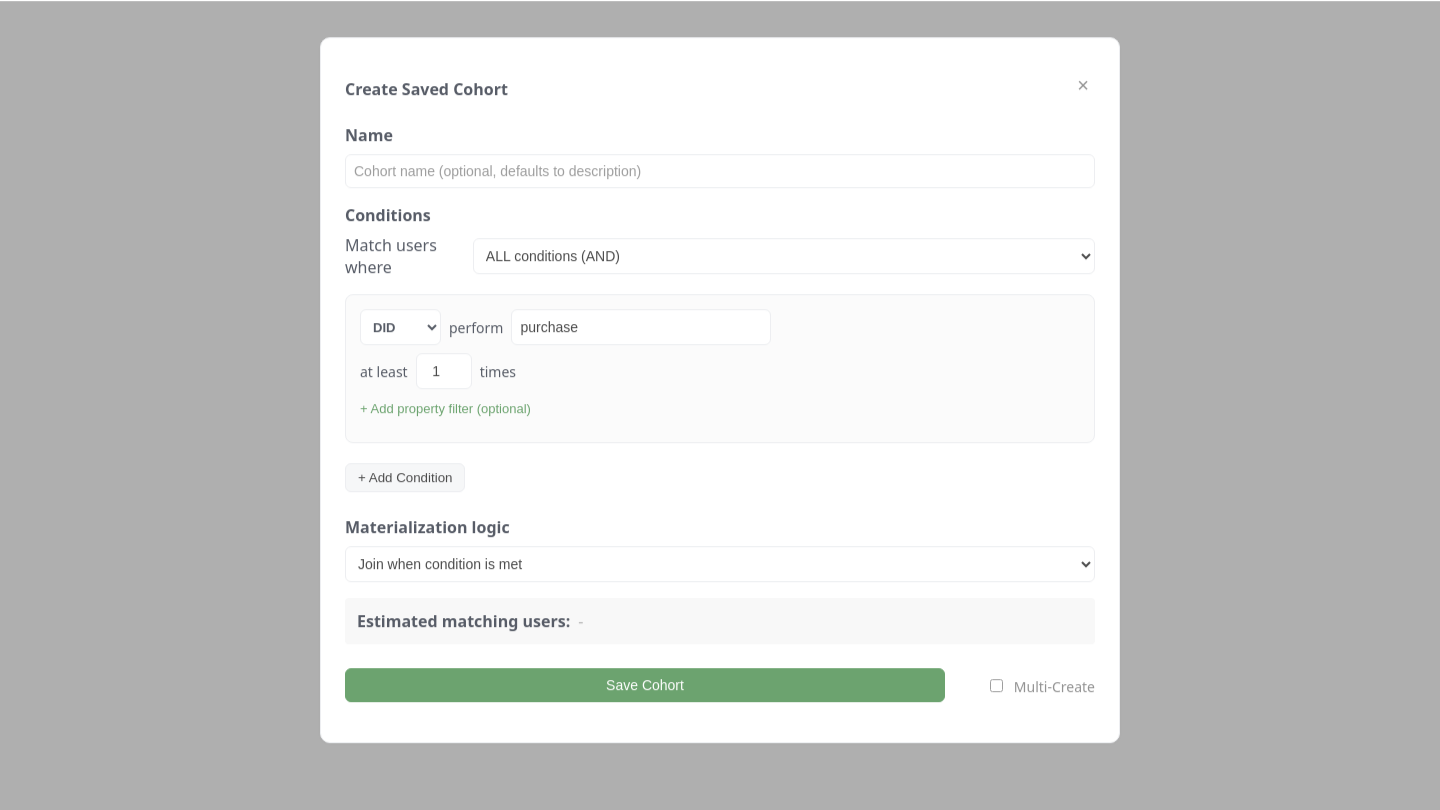
CohortForm batch creation › does NOT increment name on API failure
Click the checkbox labelled "Multi-Create".
click(996, 684)  # box 990,678 -> 1003,690
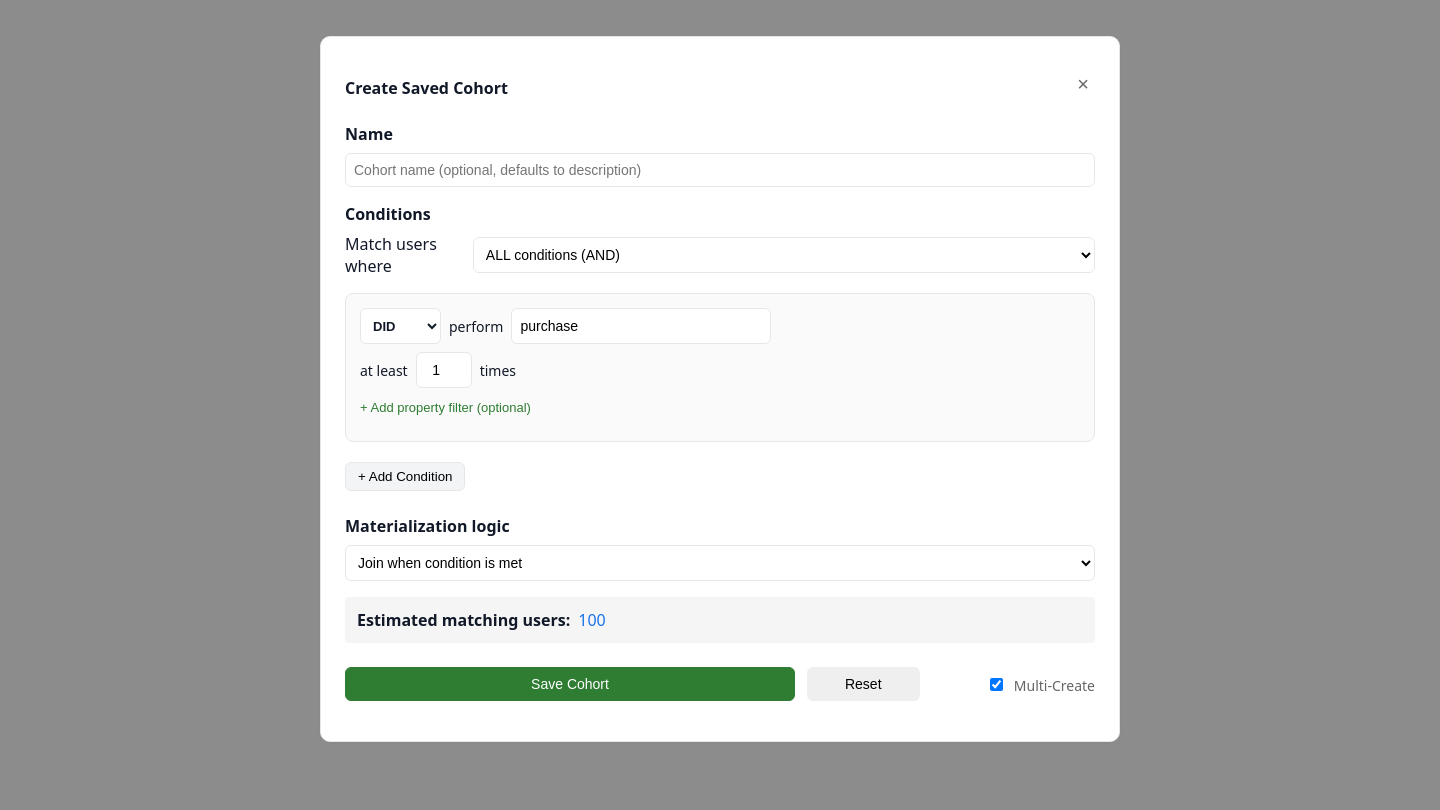
Type "Fail Test" into the field with placeholder "Cohort name (optional, defaults to description)".
click(720, 170); type("Fail Test")  # box 345,153 -> 1095,187
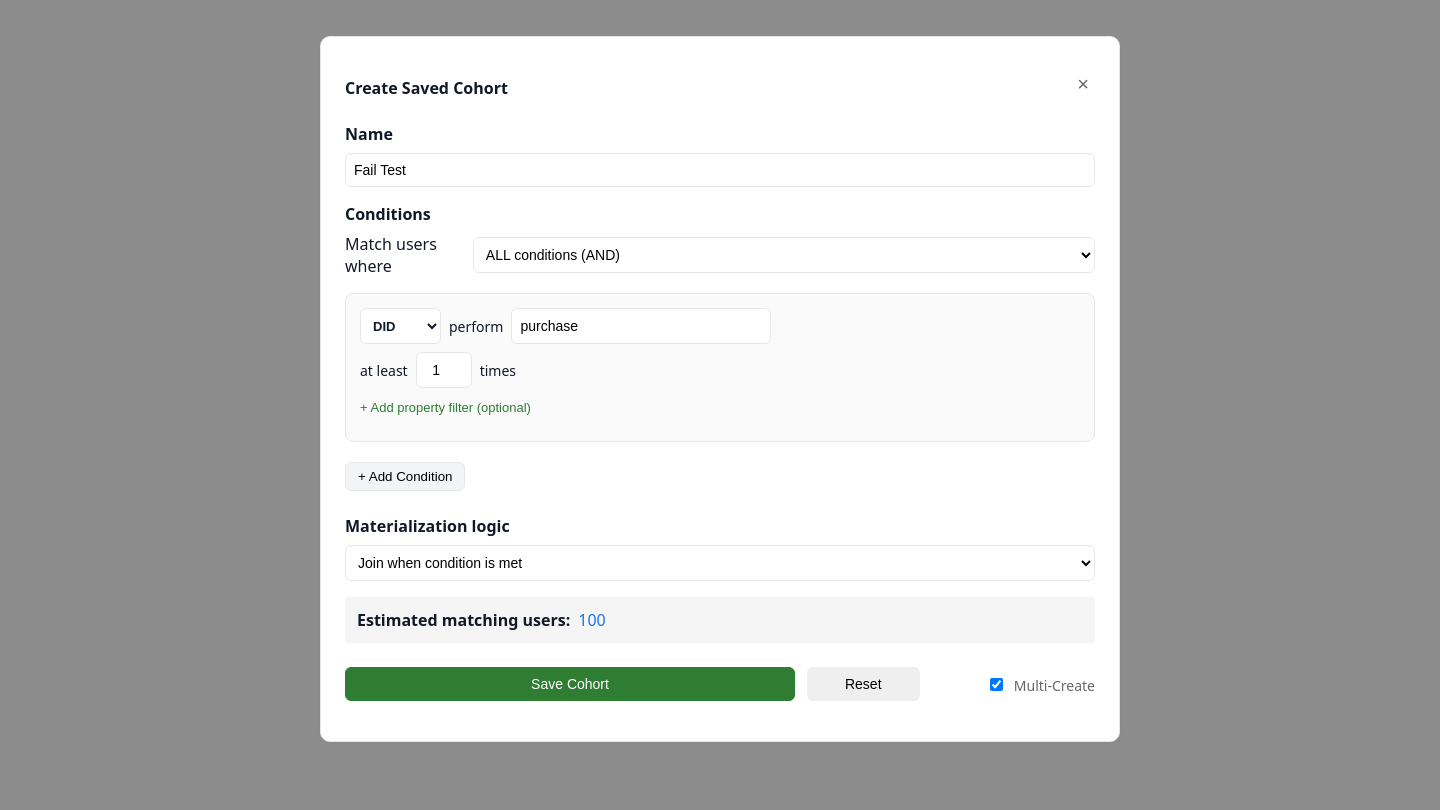
Click the button "Save Cohort".
click(570, 684)  # box 345,667 -> 795,701
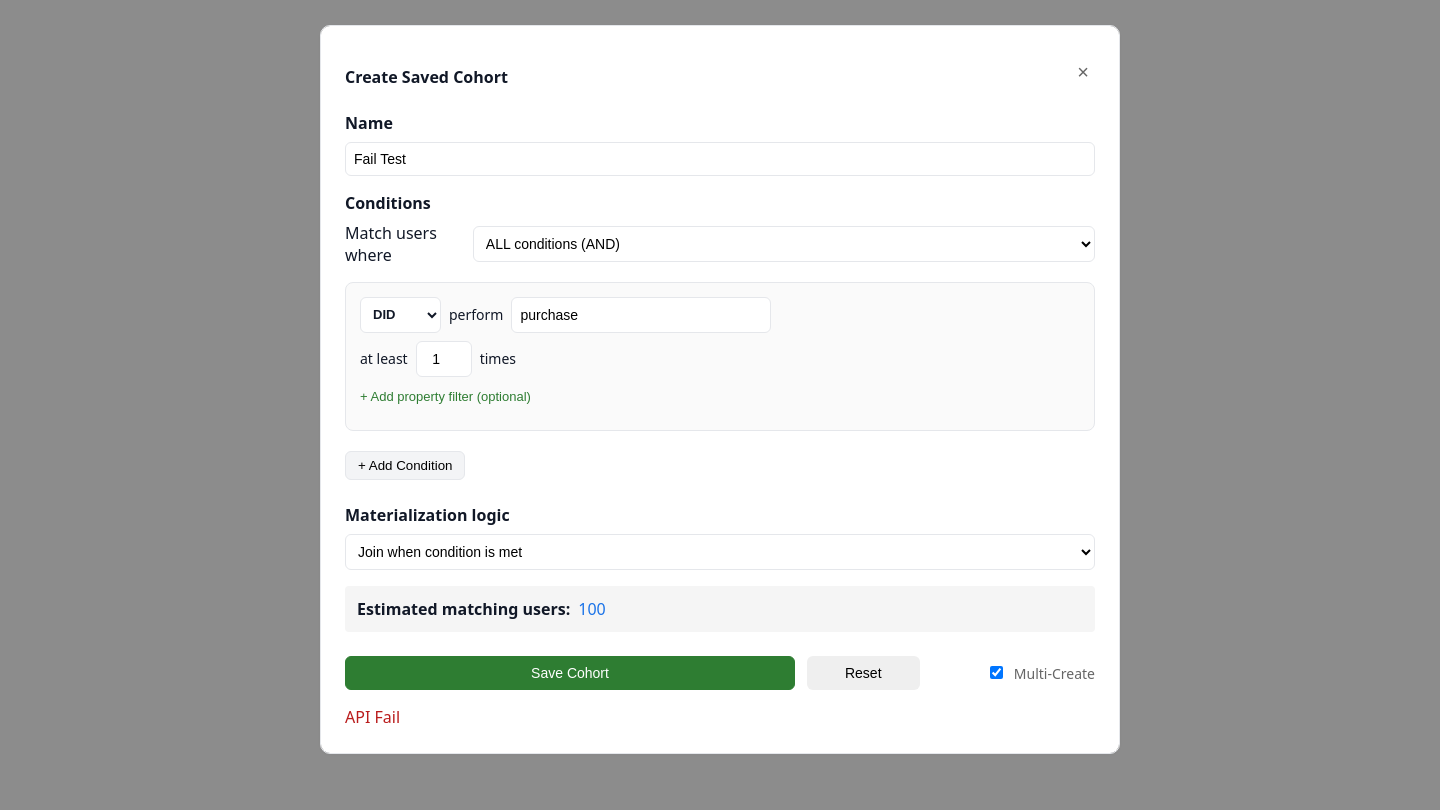
Expected: the text "API Fail" is shown, 345,706 -> 400,728
